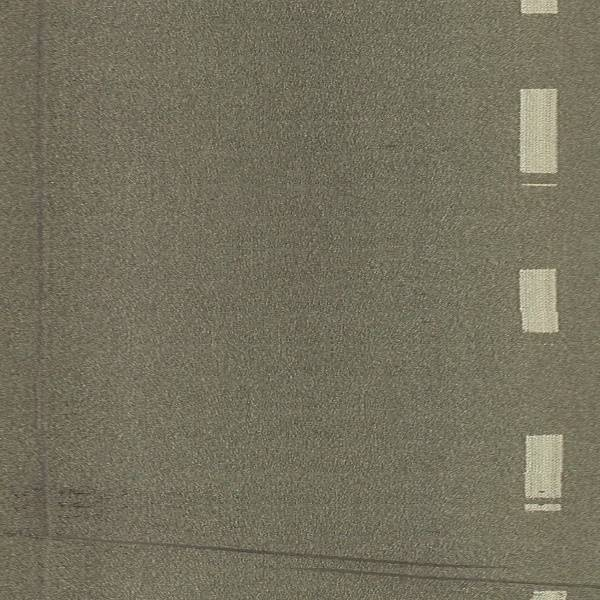road_damage: (33, 535, 517, 570), (55, 485, 89, 526)
